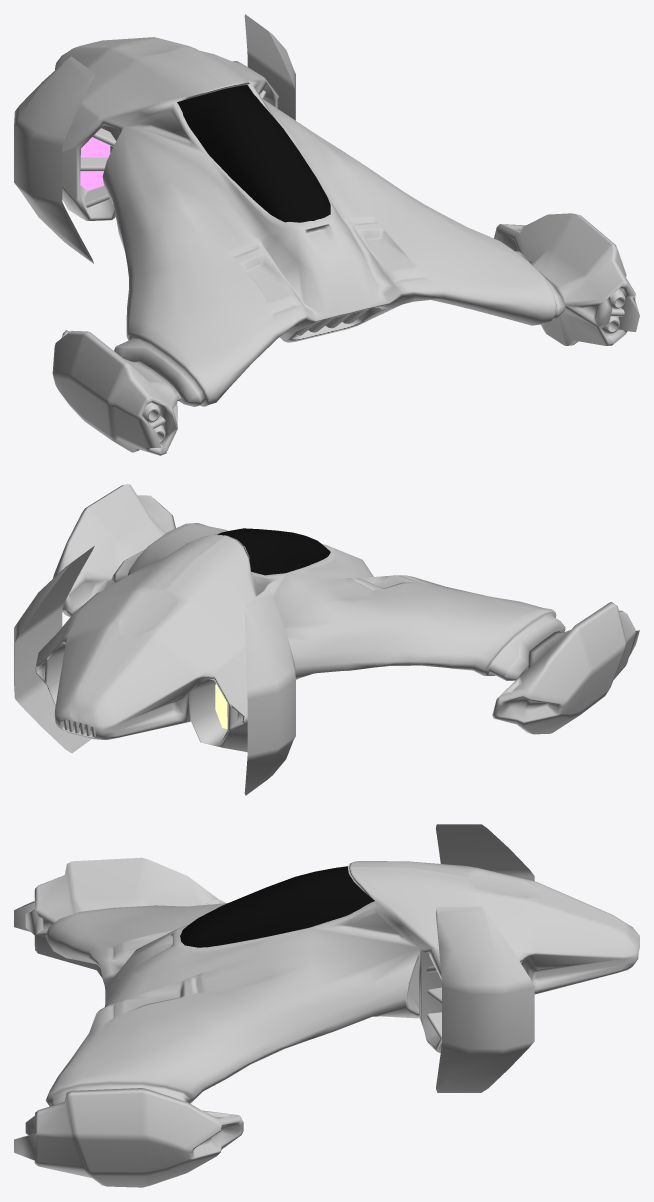
File: evmisl00_ih.fbx
3 renders of one model, top to bottom at view 1: azimuth 30°, elevation 25°; view 2: azimuth 150°, elevation 25°; view 3: azimuth 270°, elevation 25°, orthographic. The views are drawn at different scales.
Parts seen in each view (by area): view 1: mainbody, cockpit, launcher_l, launcher_r, wing_r, wing_l, flame_4__h; view 2: mainbody, launcher_r, wing_r, launcher_l, wing_l, cockpit; view 3: mainbody, launcher_l, wing_l, launcher_r, cockpit, wing_r.
Boxes of the visible parts, x1=… form: mainbody: x1=55, y1=37, x2=565, y2=406; cockpit: x1=177, y1=85, x2=330, y2=222; launcher_l: x1=494, y1=213, x2=639, y2=345; launcher_r: x1=52, y1=330, x2=181, y2=455; wing_r: x1=14, y1=56, x2=94, y2=263; wing_l: x1=244, y1=14, x2=295, y2=120; flame_4__h: x1=80, y1=137, x2=110, y2=190; mainbody: x1=35, y1=523, x2=565, y2=752; launcher_r: x1=492, y1=602, x2=639, y2=734; wing_r: x1=244, y1=588, x2=295, y2=795; launcher_l: x1=53, y1=484, x2=175, y2=617; wing_l: x1=14, y1=546, x2=94, y2=753; cockpit: x1=217, y1=528, x2=330, y2=575; mainbody: x1=45, y1=861, x2=639, y2=1106; launcher_l: x1=14, y1=1088, x2=243, y2=1187; wing_l: x1=436, y1=906, x2=534, y2=1092; launcher_r: x1=14, y1=857, x2=225, y2=977; cockpit: x1=180, y1=866, x2=374, y2=947; wing_r: x1=436, y1=824, x2=534, y2=881.
Bounding box in the file's own units: 8.11 × 3.33 × 8.68.
